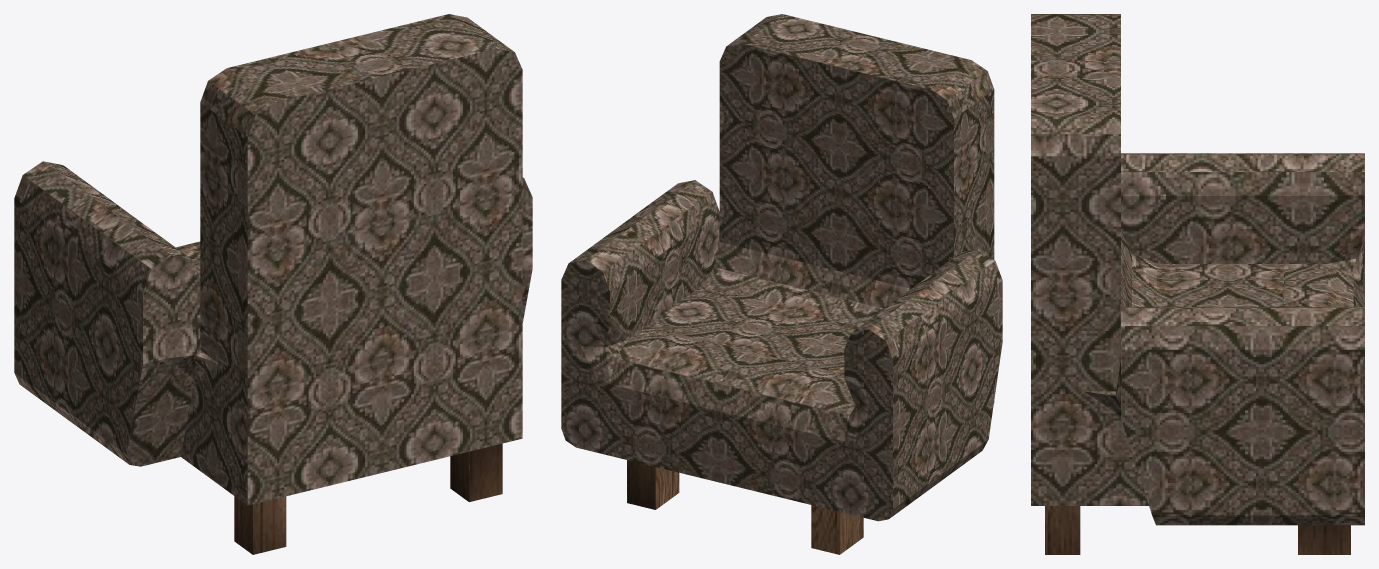
The model's file is Armchair.fbx.
3 views of the same model, side by side, from view 1: azimuth 30°, elevation 25°; view 2: azimuth 150°, elevation 25°; view 3: azimuth 270°, elevation 25° (orthographic). The views are drawn at different scales.
Visible parts, largest first — view 1: Cube; view 2: Cube; view 3: Cube.
Boxes of the visible parts, box(x1,y1,x2,y2) form: Cube: box(14, 14, 532, 554); Cube: box(561, 14, 1002, 554); Cube: box(1031, 14, 1364, 554).
Bounding box in the file's own units: 385 × 428 × 301.
